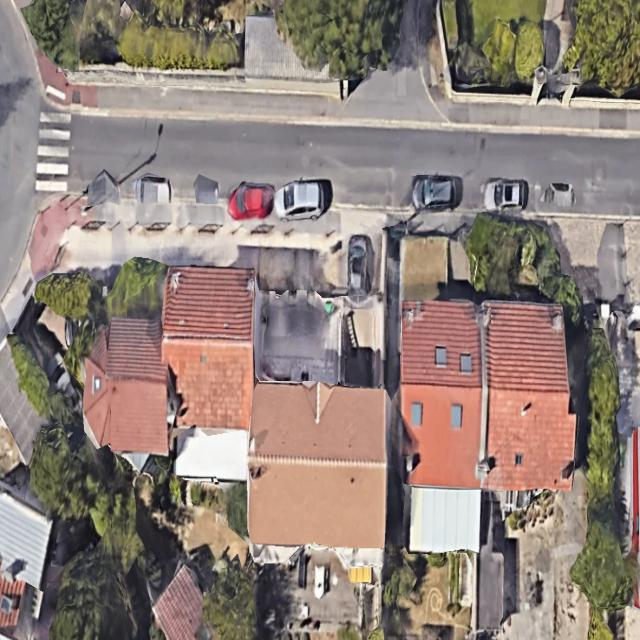maison: (245, 381, 388, 566), (475, 302, 583, 494), (397, 301, 483, 487), (159, 267, 256, 431), (84, 315, 170, 451)
